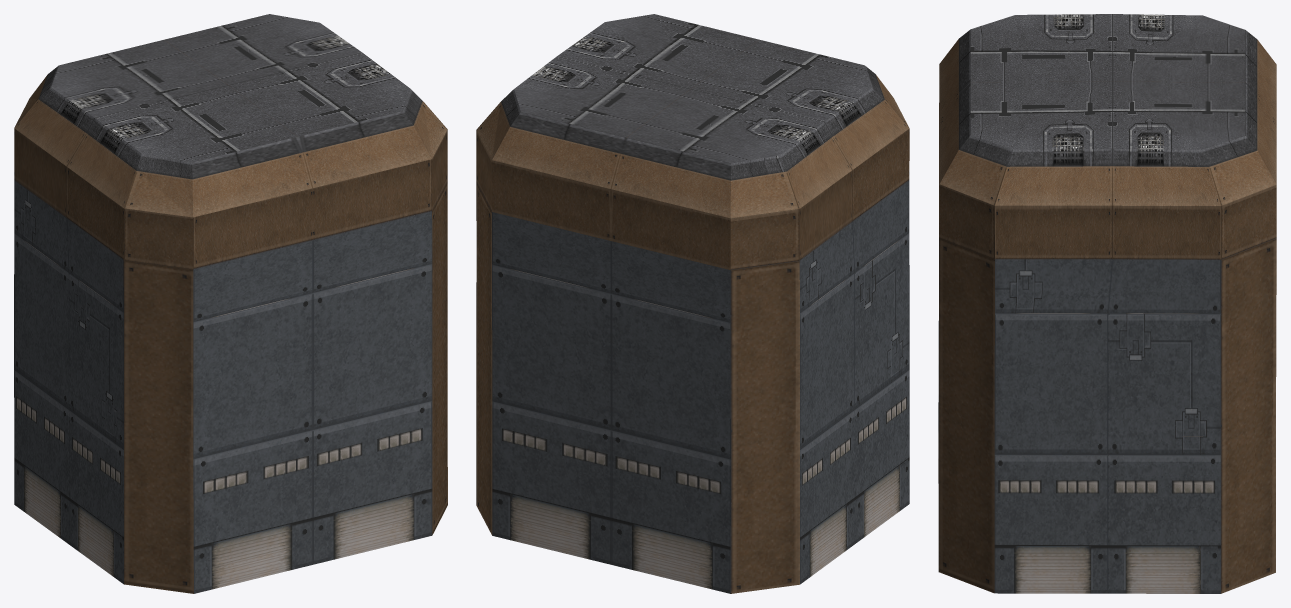
The model's file is Building-TowerA.fbx.
3 renders of one model, left to right at view 1: azimuth 30°, elevation 25°; view 2: azimuth 150°, elevation 25°; view 3: azimuth 270°, elevation 25°, orthographic. The views are drawn at different scales.
Parts seen in each view (by area): view 1: polySurface19655; view 2: polySurface19655; view 3: polySurface19655.
Boxes of the visible parts, <box> form: polySurface19655: <box>14,14,447,593</box>; polySurface19655: <box>476,14,909,593</box>; polySurface19655: <box>938,14,1276,593</box>.
Bounding box in the file's own units: 1.98 × 2.44 × 1.73.
